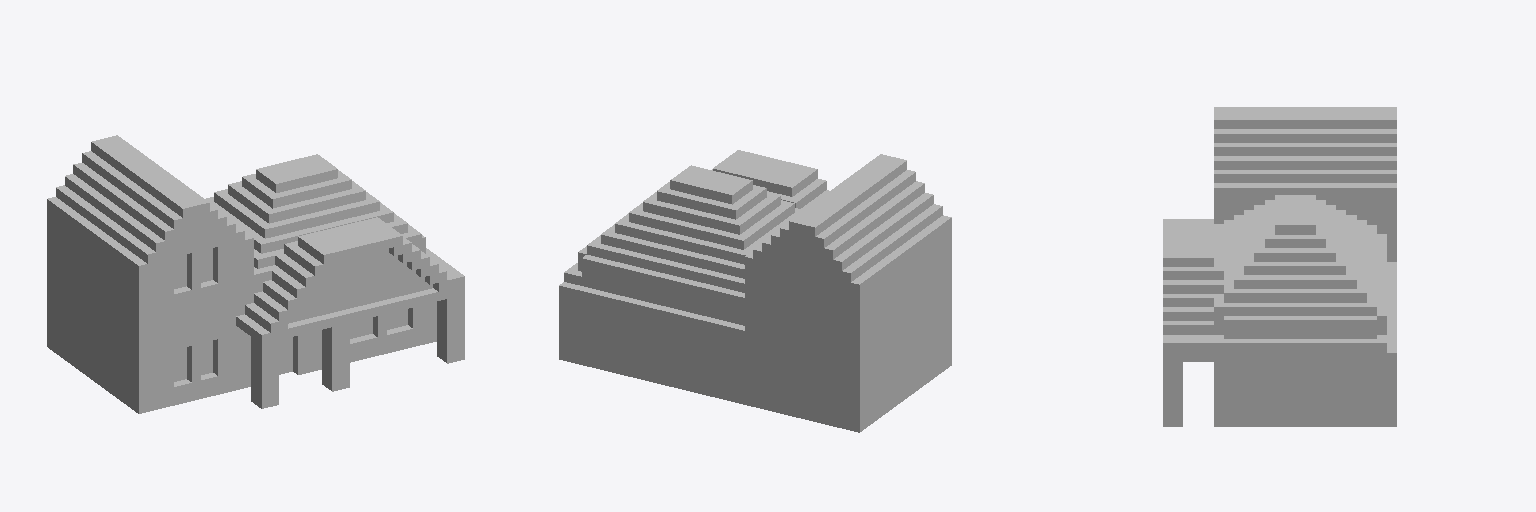
Rendered from House.obj.
3 views of the same model, side by side, from view 1: azimuth 30°, elevation 25°; view 2: azimuth 150°, elevation 25°; view 3: azimuth 270°, elevation 25° (orthographic).
Visible parts, largest first — view 1: object 1; view 2: object 1; view 3: object 1.
Part boxes in pixels (x1,y1,x2,y2): object 1: (47,135,464,413); object 1: (559,150,951,432); object 1: (1163,107,1396,426).
Size of the model in its own units: 3.4 by 2.1 by 2.3.